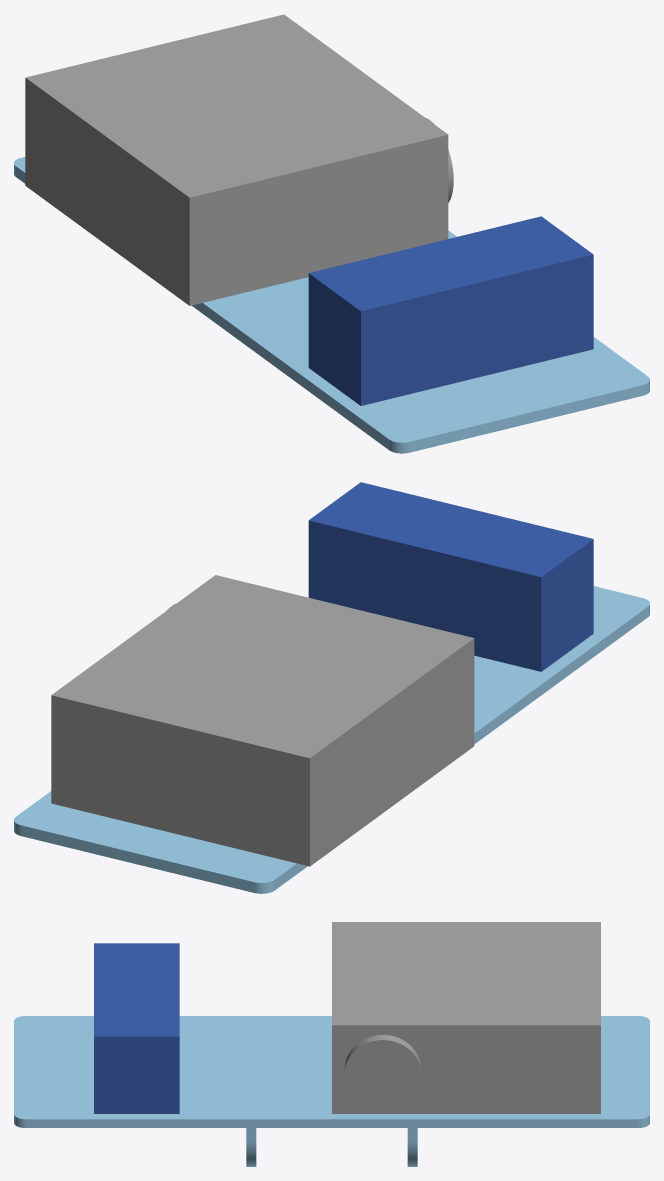
File: proj_tilt.dae
The picture shows the model from 3 angles, top to bottom: view 1: azimuth 30°, elevation 25°; view 2: azimuth 150°, elevation 25°; view 3: azimuth 270°, elevation 25°; orthographic projection. The views are drawn at different scales.
Parts seen in each view (by area): view 1: 5c1680667aeda015ebcfd203 (×3); view 2: 5c1680667aeda015ebcfd203 (×3); view 3: 5c1680667aeda015ebcfd203 (×3).
Boxes of the visible parts, x1,y1,x2,y2 form: 5c1680667aeda015ebcfd203 (×3): (14, 14, 649, 453); 5c1680667aeda015ebcfd203 (×3): (14, 482, 649, 893); 5c1680667aeda015ebcfd203 (×3): (14, 922, 649, 1166).
Bounding box in the file's own units: 0.105 × 0.26 × 0.083.
